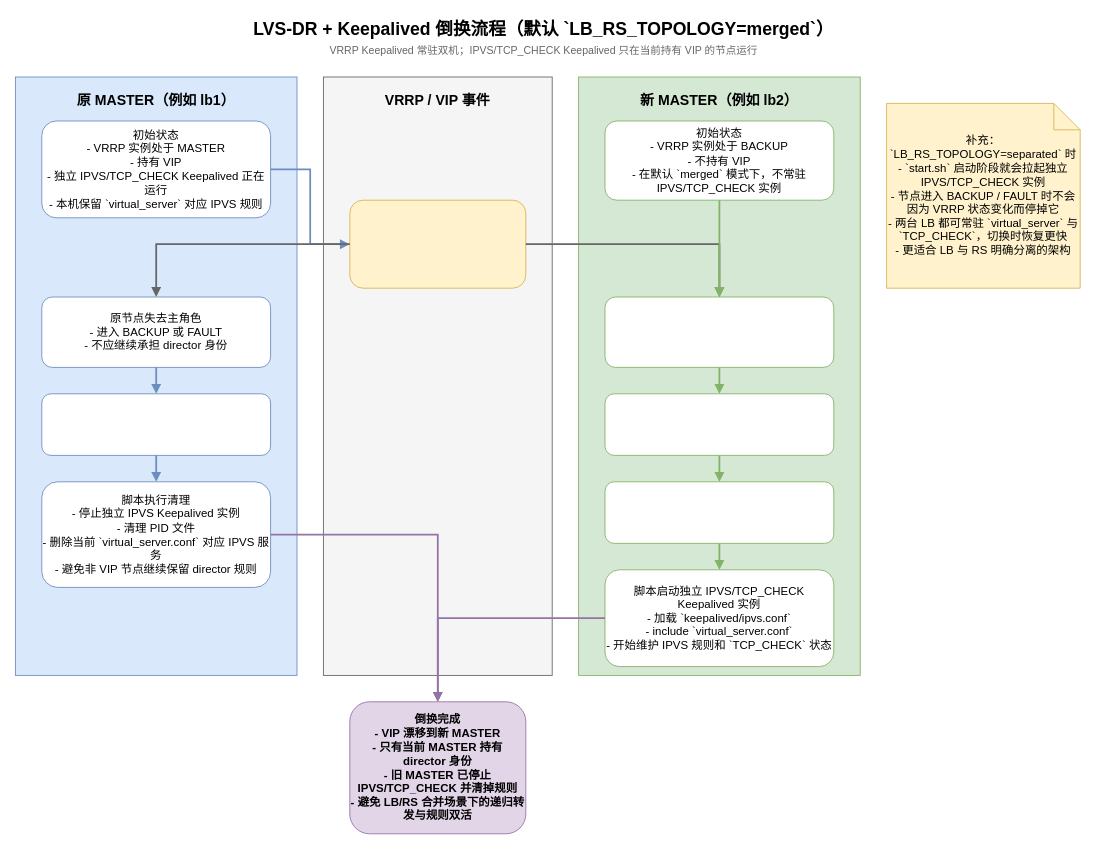
Image size: 1096x849. Some labels were removed from this diagram. Each missing label, with the centre of its shape:
`notify_backup` / `notify_fault` 调用 `stop-ipvs-keepalived.sh`: the point at 156,424
`notify_master` 调用 `start-ipvs-keepalived.sh`: the point at 719,512
故障或切换触发 - 原 MASTER 宕机 / Keepalived 退出 - 网络异常导致 VRRP 广播丢失: the point at 437,243
新节点进入 MASTER - 绑定 VIP - 对外成为新的活动 LB: the point at 719,424
检测到原 MASTER 超时 - VRRP 选举收敛 - 本机准备接管 VIP: the point at 719,331
